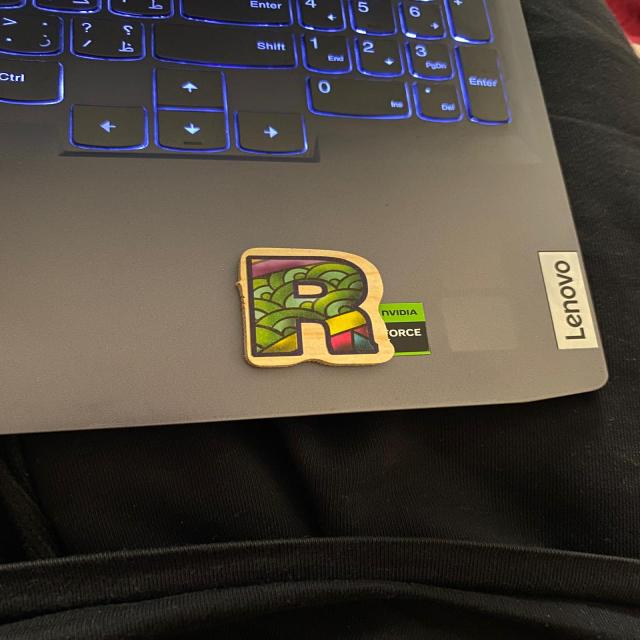R: (238, 247, 394, 367)
